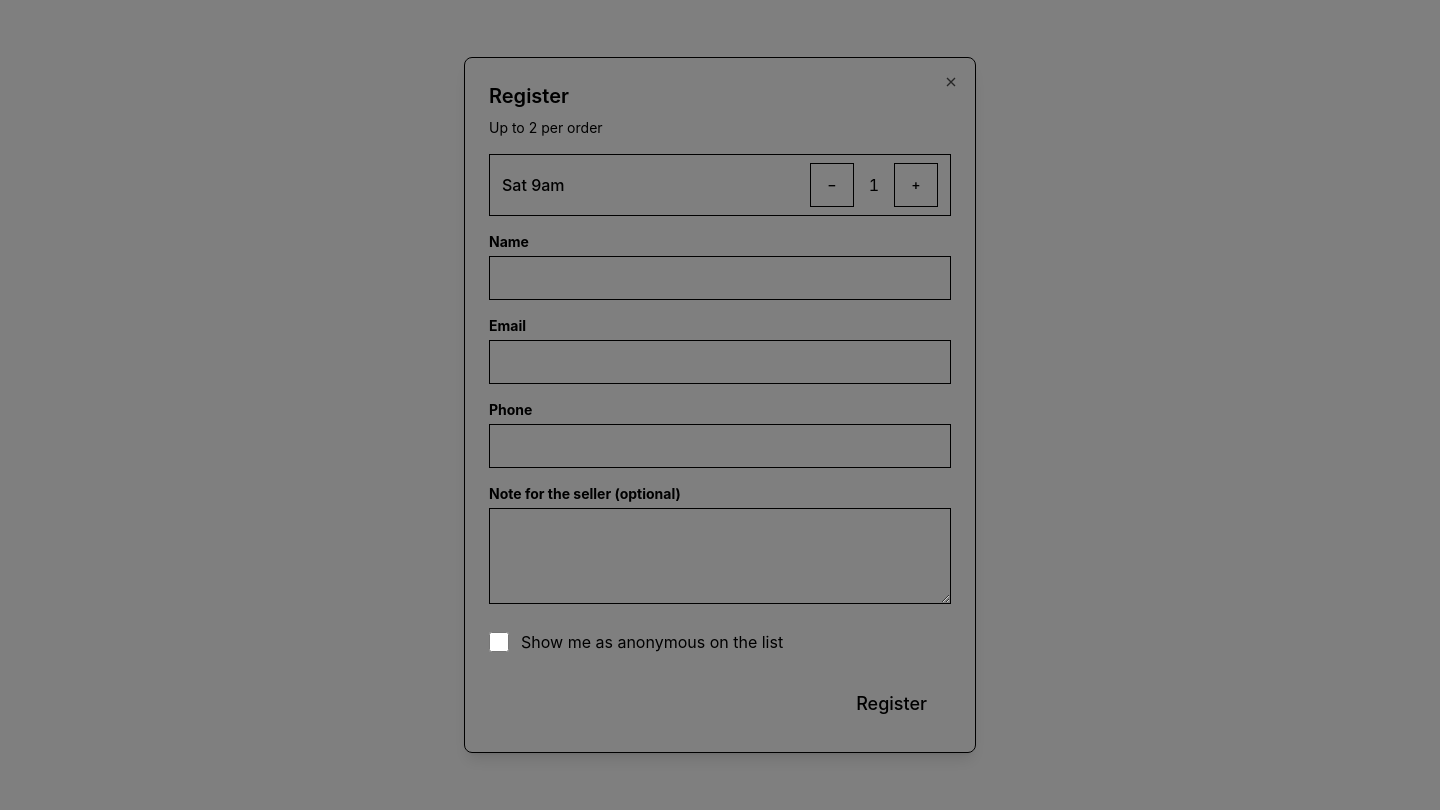
Test: OrderSheet › free registration › says when the email is already registered
This screenshot has width=1440, height=810.
Type "Amy Lee" into the field labelled "Name". click: (720, 278)
box: [489,256,951,300]
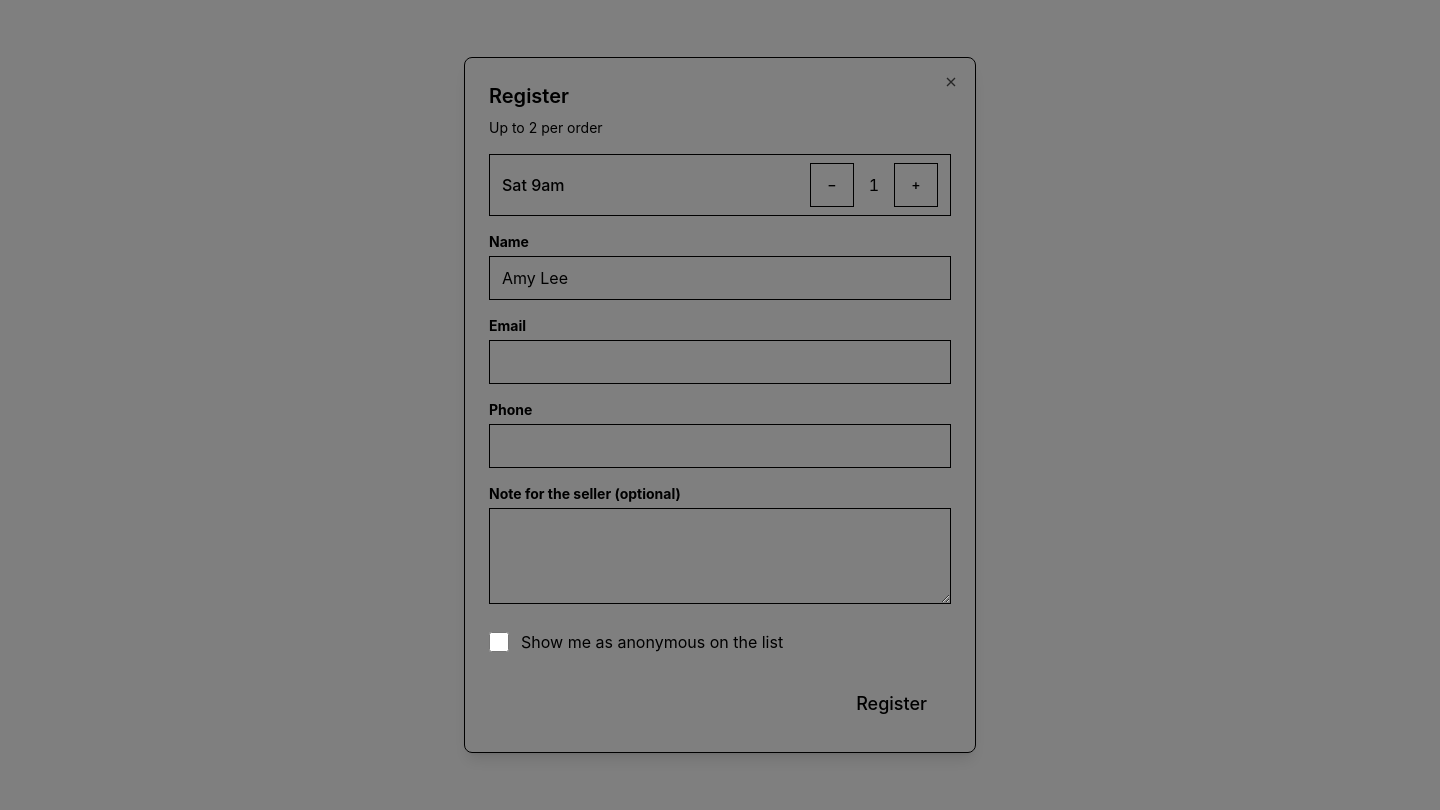
Type "amy@example.test" into the field labelled "Email". click: (720, 362)
box: [489,340,951,384]
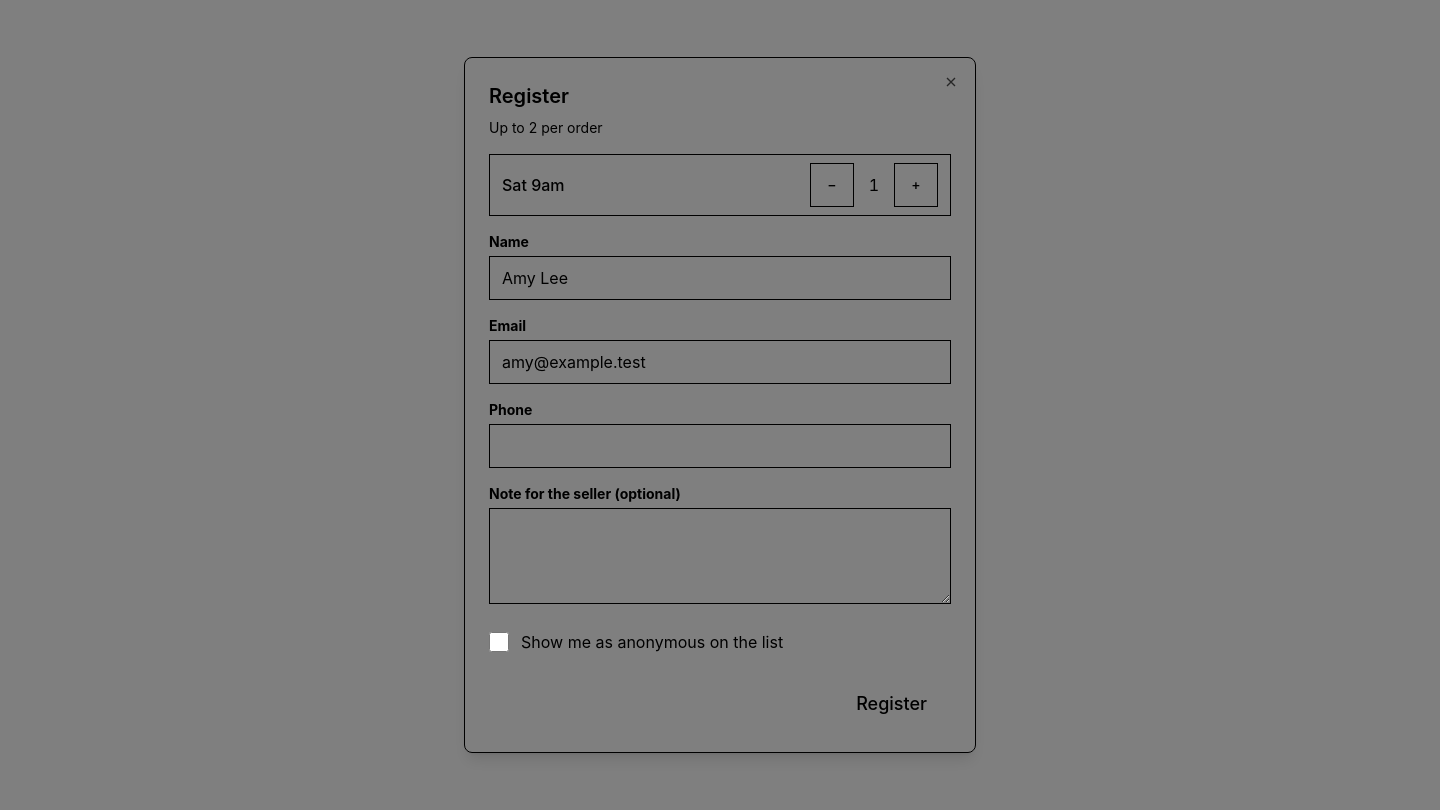
Type "021 555 0101" into the field labelled "Phone". click: (720, 446)
box: [489,424,951,468]
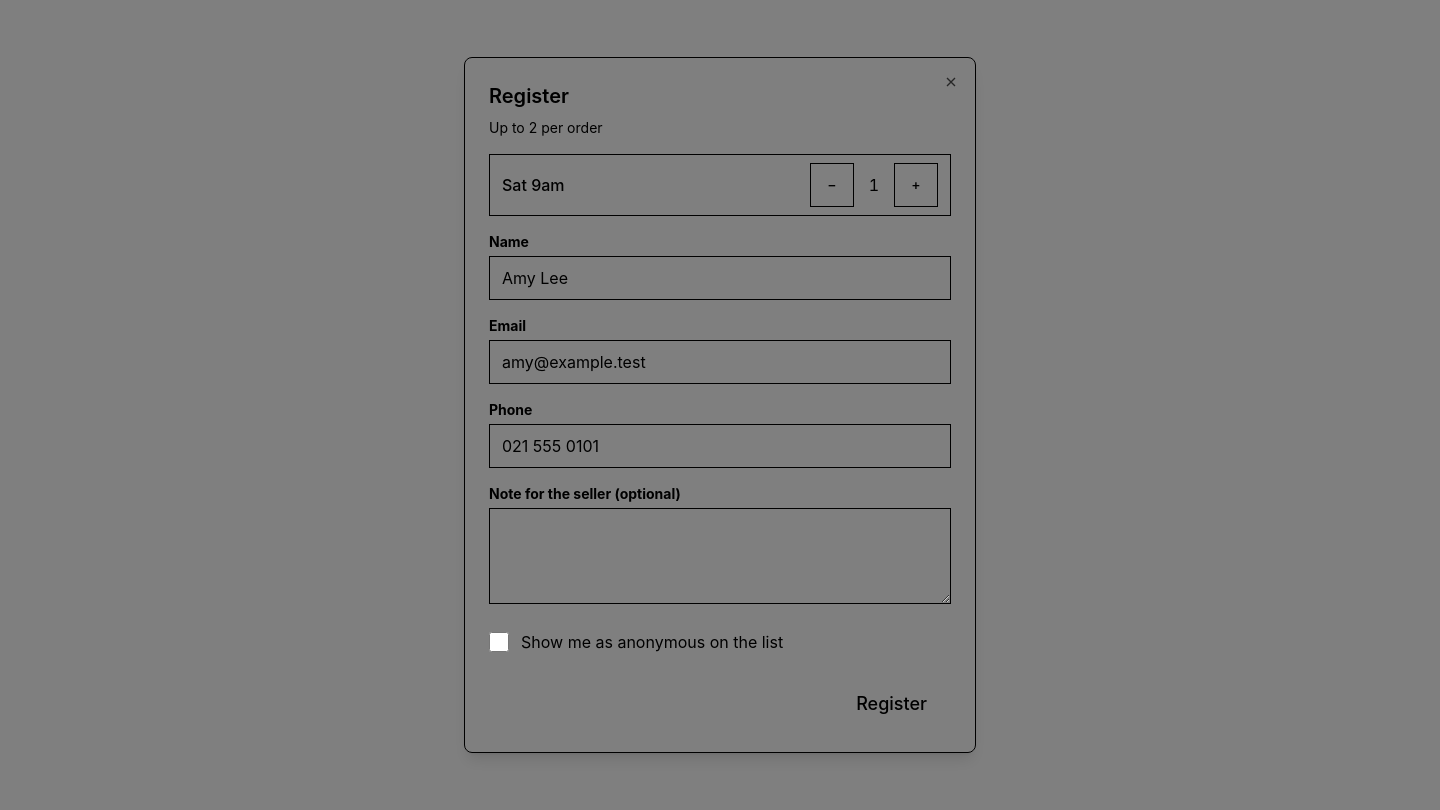
Click the button "Register". click: (892, 704)
box: [832,680,951,728]
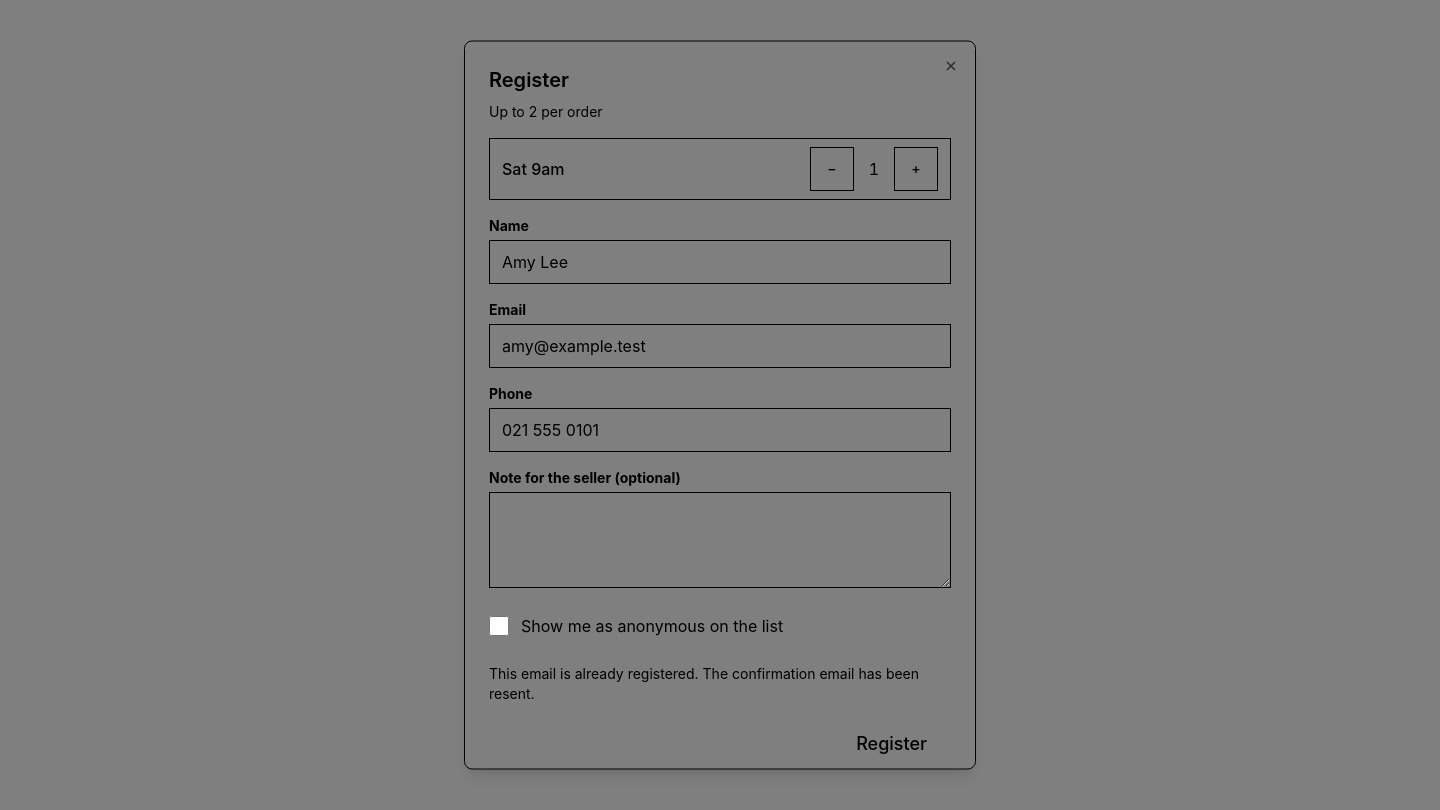
Expected: the message reads "This email is already registered. The confirmation email has been resent.", [489,664,919,702]
